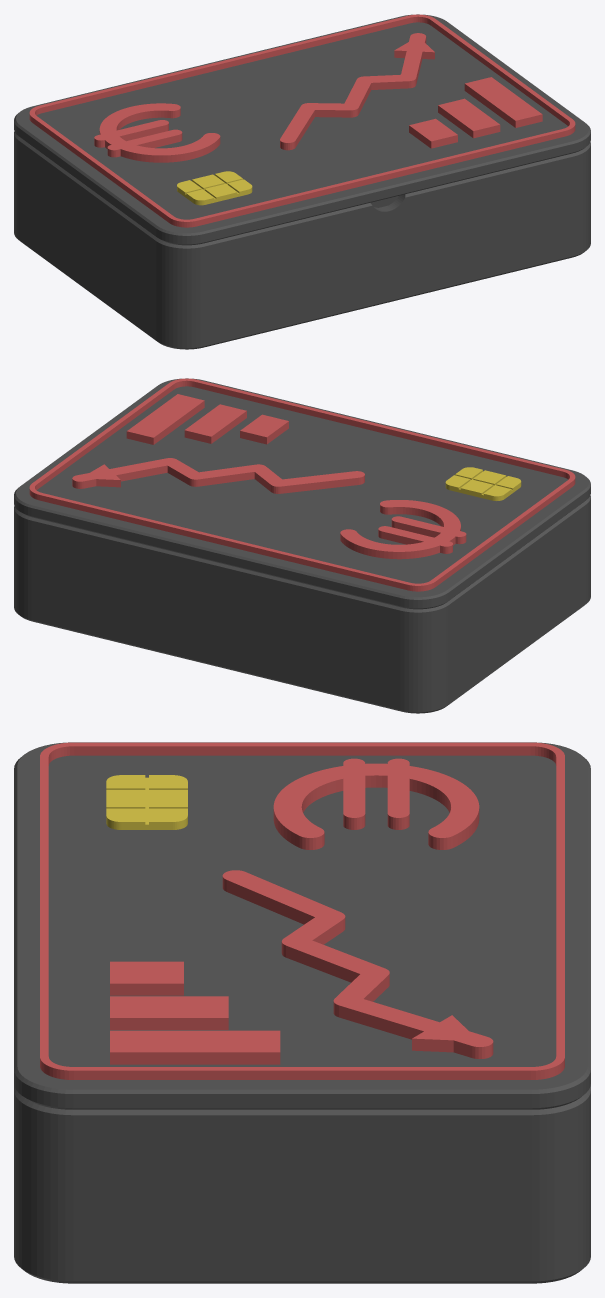
Rendered from economia-montato.glb.
3 renders of one model, top to bottom at view 1: azimuth 30°, elevation 25°; view 2: azimuth 150°, elevation 25°; view 3: azimuth 270°, elevation 25°, orthographic. The views are drawn at different scales.
Visible parts, largest first — view 1: 01_vaschetta, 02_coperchio_carta, 03_cornice, 04_euro, 05_freccia, 06_colonna_3, 07_chip, 06_colonna_2, 06_colonna_1; view 2: 01_vaschetta, 02_coperchio_carta, 03_cornice, 05_freccia, 04_euro, 06_colonna_3, 07_chip, 06_colonna_2, 06_colonna_1; view 3: 02_coperchio_carta, 01_vaschetta, 03_cornice, 05_freccia, 04_euro, 06_colonna_3, 07_chip, 06_colonna_2, 06_colonna_1.
Boxes of the visible parts, <box> form: 01_vaschetta: <box>14,131,590,349</box>; 02_coperchio_carta: <box>14,14,590,245</box>; 03_cornice: <box>29,14,575,227</box>; 04_euro: <box>94,103,220,162</box>; 05_freccia: <box>280,33,434,150</box>; 06_colonna_3: <box>464,77,542,127</box>; 07_chip: <box>177,171,252,205</box>; 06_colonna_2: <box>438,98,500,138</box>; 06_colonna_1: <box>409,118,457,148</box>; 01_vaschetta: <box>14,495,590,713</box>; 02_coperchio_carta: <box>14,378,590,609</box>; 03_cornice: <box>29,378,575,591</box>; 05_freccia: <box>72,458,364,493</box>; 04_euro: <box>340,500,466,559</box>; 06_colonna_3: <box>126,394,204,444</box>; 07_chip: <box>445,467,521,500</box>; 06_colonna_2: <box>184,404,246,443</box>; 06_colonna_1: <box>240,414,288,444</box>; 02_coperchio_carta: <box>14,742,590,1109</box>; 01_vaschetta: <box>14,1084,590,1283</box>; 03_cornice: <box>40,742,564,1079</box>; 05_freccia: <box>222,870,493,1058</box>; 04_euro: <box>273,758,479,849</box>; 06_colonna_3: <box>110,1030,280,1064</box>; 07_chip: <box>106,775,187,829</box>; 06_colonna_2: <box>110,996,228,1029</box>; 06_colonna_1: <box>110,961,183,995</box>.
Size of the model in its own units: 0.112 by 0.0308 by 0.078.
